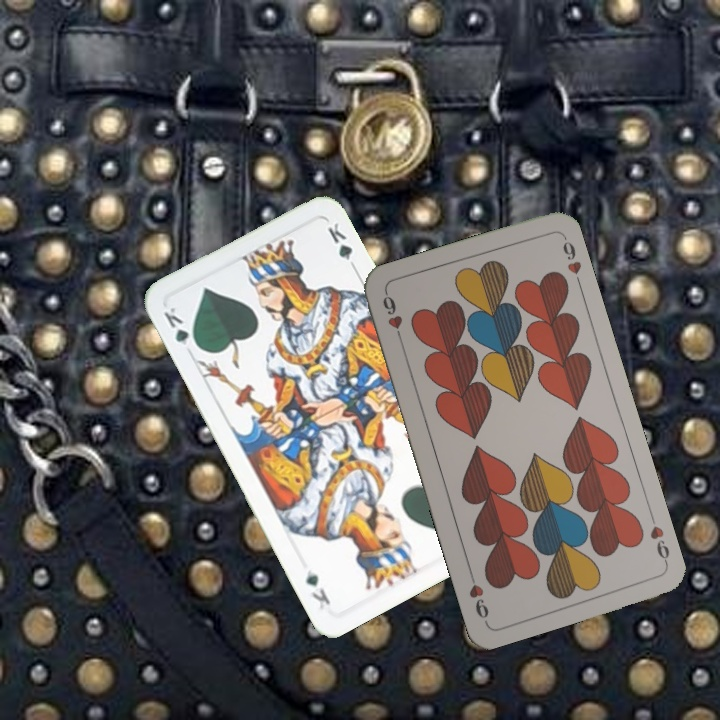GK: (159, 303, 202, 353)
H9: (378, 289, 406, 346), (645, 510, 672, 568)
